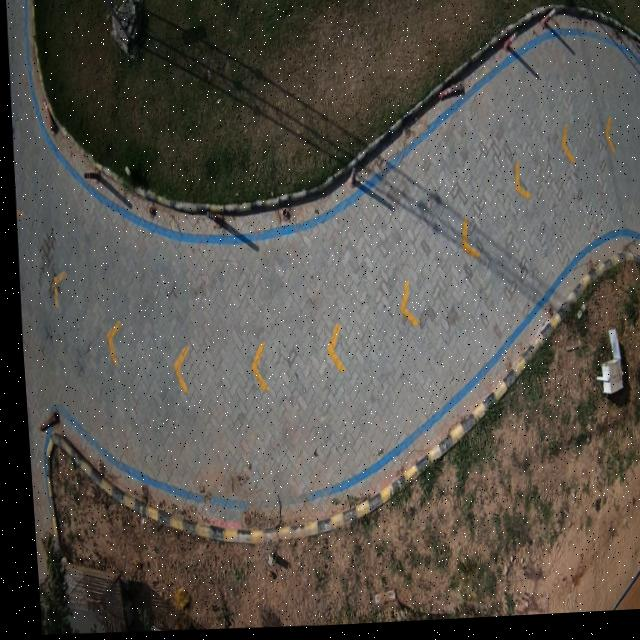No Car: (6, 0, 640, 634)
